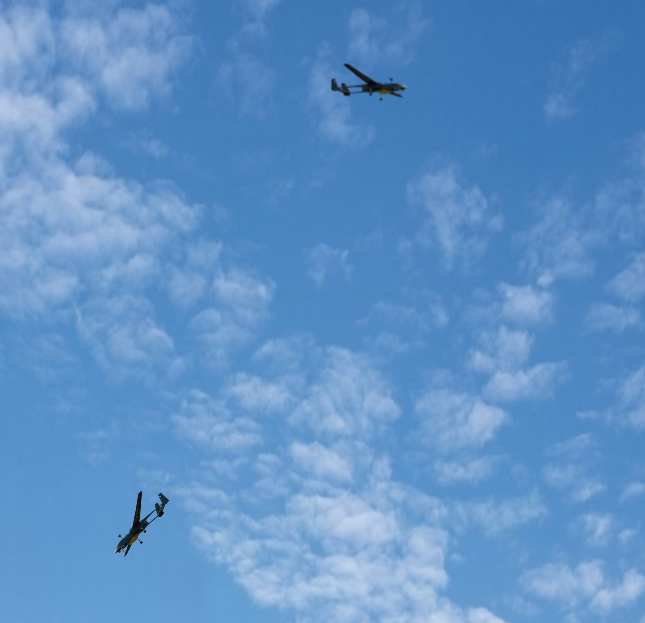military drone: (114, 491, 169, 557), (331, 62, 407, 101)
